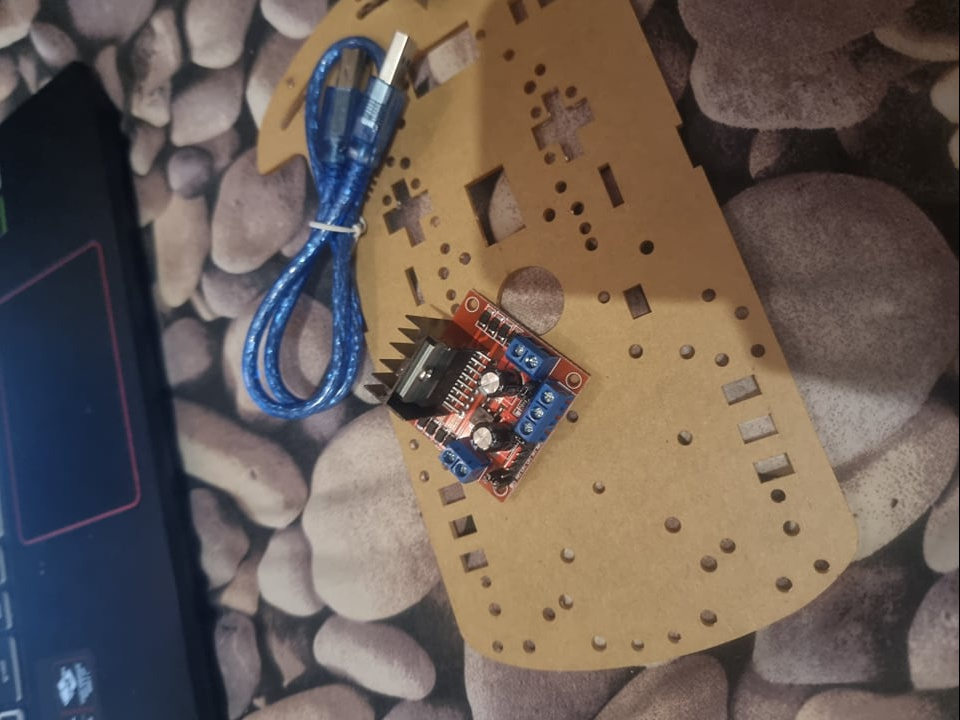MOTOR: (368, 288, 595, 503)
